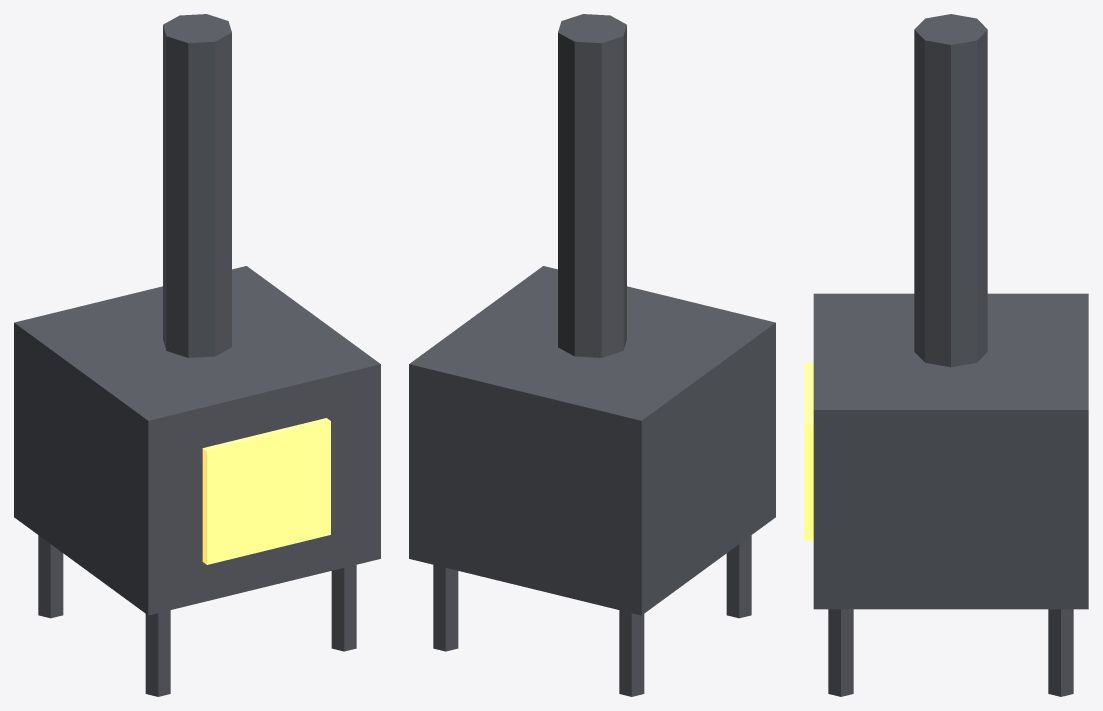
Rendered from haunted_stove_castiron.glb.
3 views of the same model, side by side, from view 1: azimuth 30°, elevation 25°; view 2: azimuth 150°, elevation 25°; view 3: azimuth 270°, elevation 25° (orthographic). The views are drawn at different scales.
Visible parts, largest first — view 1: Haunted_Stove_CastIron; view 2: Haunted_Stove_CastIron; view 3: Haunted_Stove_CastIron.
Boxes of the visible parts, left/top/right/bottom form: Haunted_Stove_CastIron: left=14, top=14, right=380, bottom=696; Haunted_Stove_CastIron: left=409, top=14, right=775, bottom=696; Haunted_Stove_CastIron: left=804, top=14, right=1088, bottom=696.
Size of the model in its own units: 0.75 by 1.85 by 0.775.
